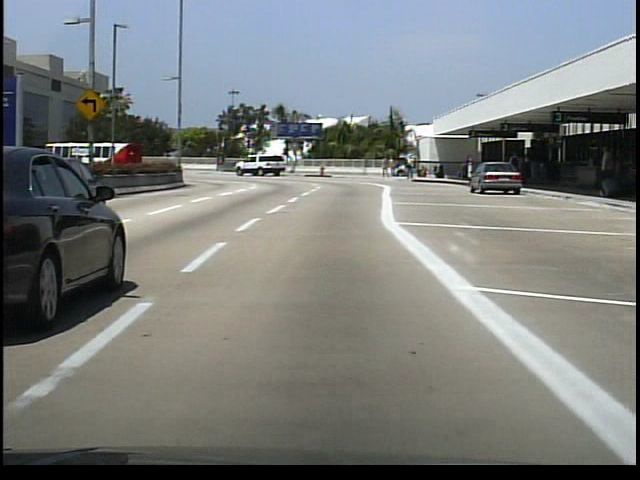person: (594, 140, 617, 202), (507, 148, 524, 187), (464, 153, 477, 183), (406, 151, 417, 182), (382, 153, 391, 178), (389, 155, 397, 178)
